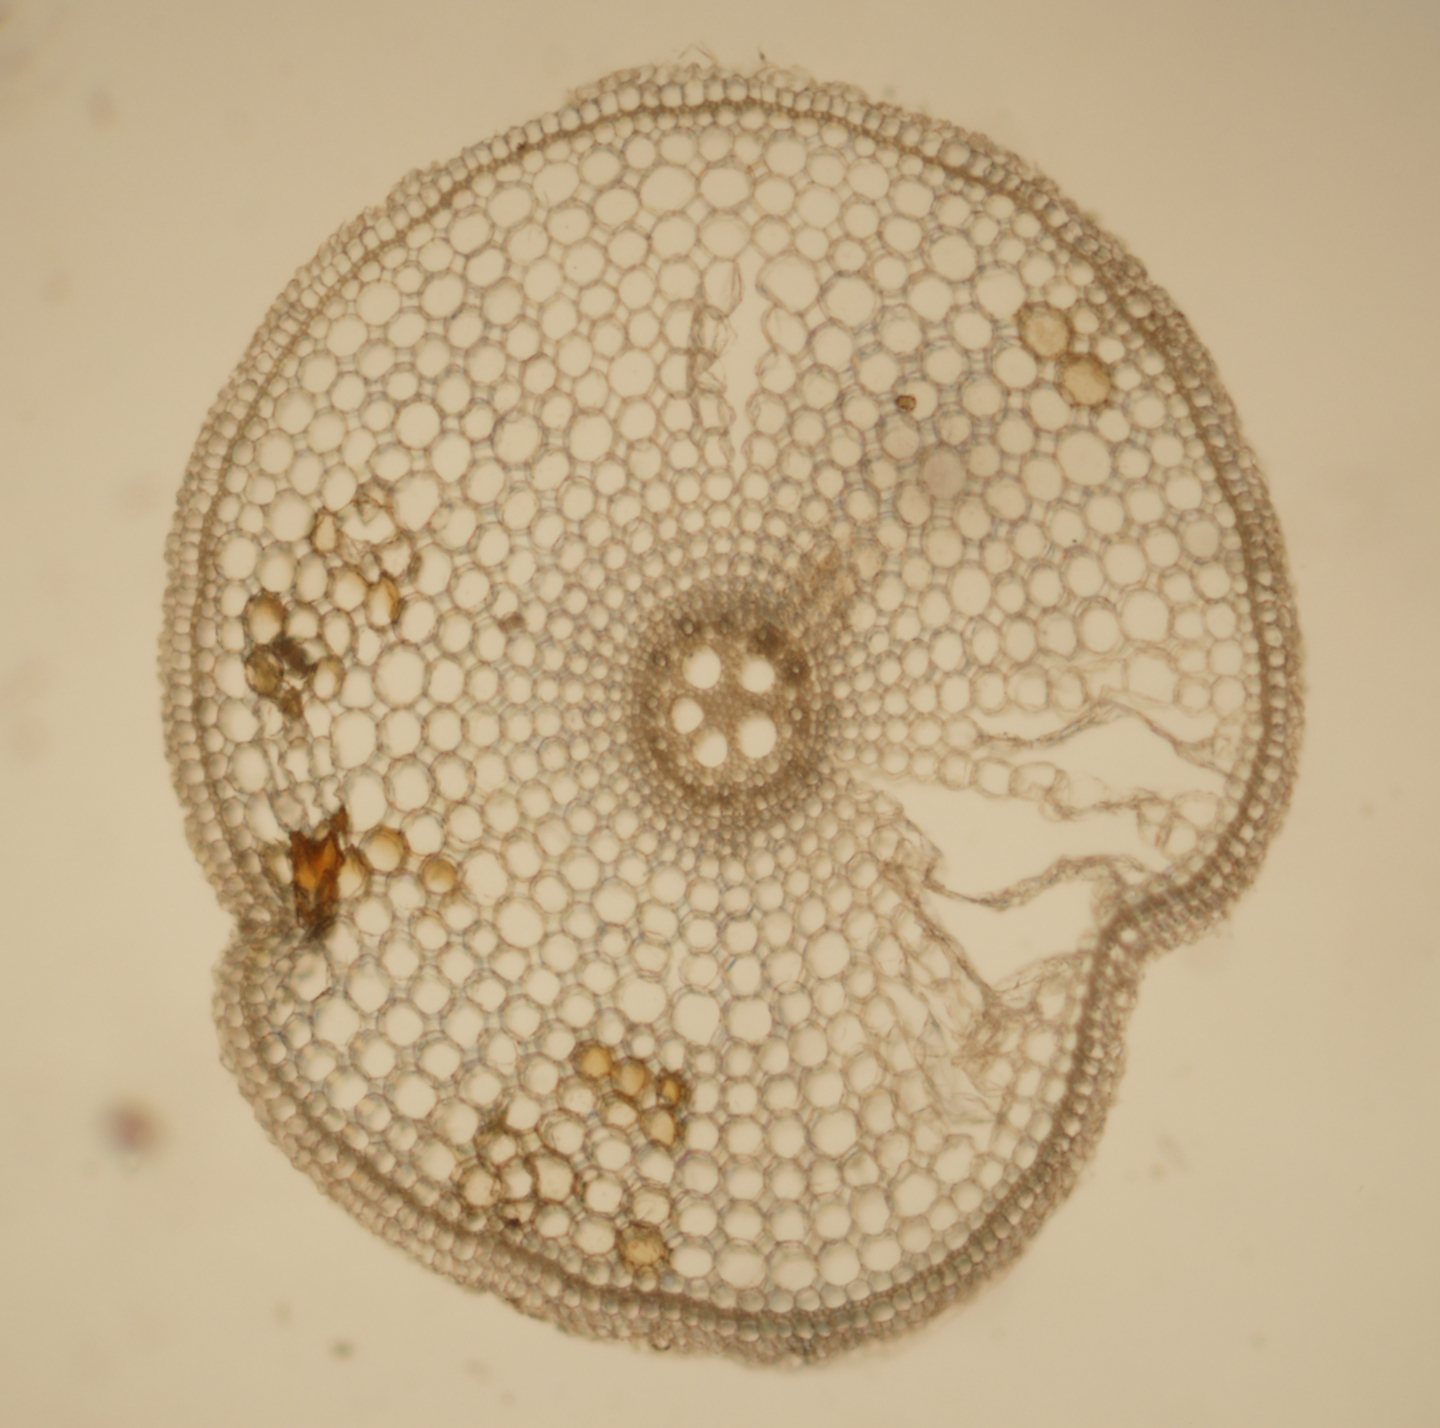lm: (736, 710, 777, 758), (681, 643, 721, 689), (691, 724, 727, 768), (670, 694, 704, 735), (739, 655, 776, 690)
